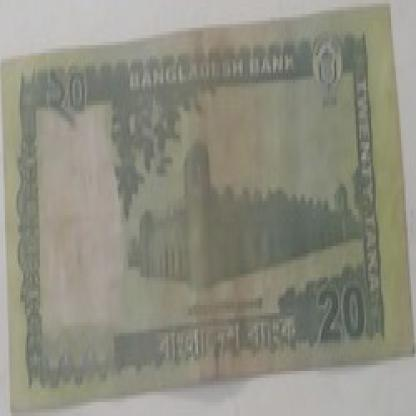Twenty: (313, 274, 369, 347), (32, 66, 96, 128)
